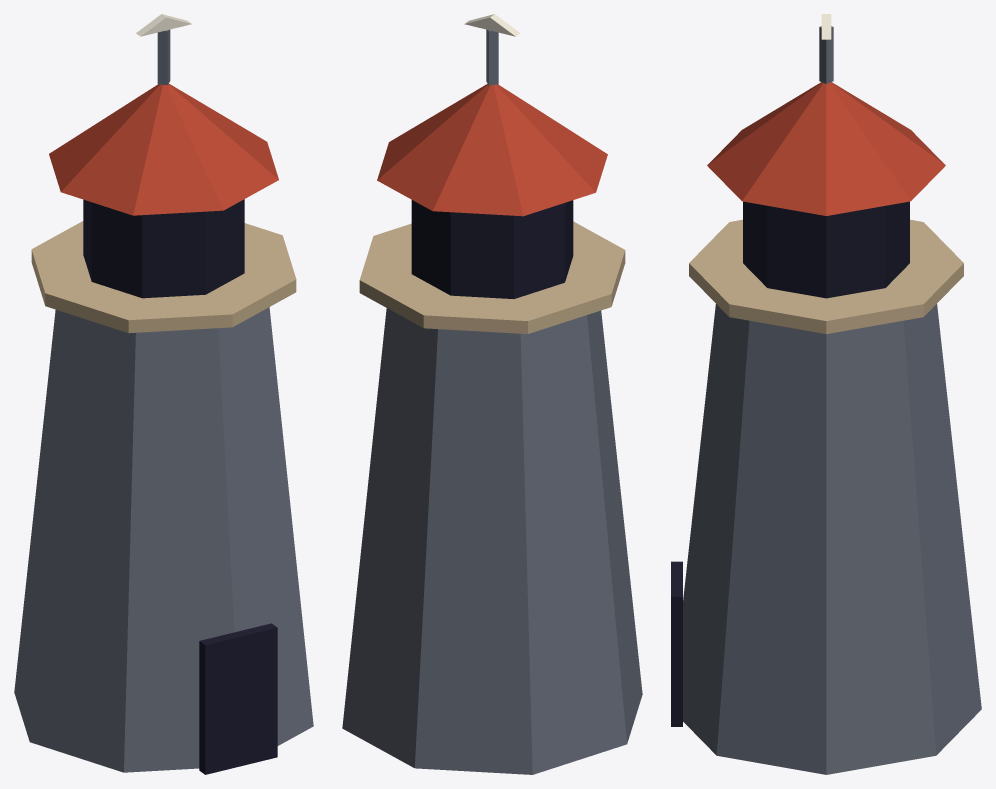
File: gull_beacon.glb
3 renders of one model, left to right at view 1: azimuth 30°, elevation 25°; view 2: azimuth 150°, elevation 25°; view 3: azimuth 270°, elevation 25°, orthographic.
Parts seen in each view (by area): view 1: Tower, Roof, Gallery, Lantern, Door, Finial, Gull; view 2: Tower, Roof, Gallery, Lantern, Finial, Gull; view 3: Tower, Roof, Gallery, Lantern, Door, Finial.
Boxes of the visible parts, x1,y1,x2,y2 form: Tower: (14, 307, 313, 772); Roof: (49, 83, 278, 215); Gallery: (31, 221, 296, 333); Lantern: (83, 199, 244, 298); Door: (199, 623, 277, 774); Finial: (157, 29, 170, 85); Gull: (136, 14, 191, 36); Tower: (342, 308, 642, 774); Roof: (377, 84, 607, 216); Gallery: (359, 221, 625, 333); Lantern: (411, 200, 573, 298); Finial: (486, 29, 498, 85); Gull: (464, 14, 520, 36); Tower: (683, 304, 981, 774); Roof: (707, 82, 945, 215); Gallery: (689, 219, 963, 333); Lantern: (743, 201, 909, 298); Door: (671, 561, 682, 726); Finial: (819, 26, 833, 83).
Size of the model in its own units: 2.6 by 6.42 by 2.6.
